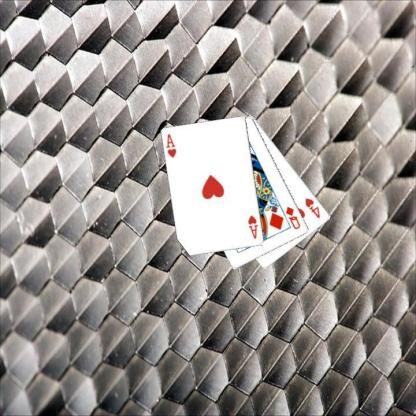4H: (303, 195, 322, 220)
AH: (245, 212, 260, 240), (164, 131, 177, 159)
QD: (283, 204, 302, 230)
